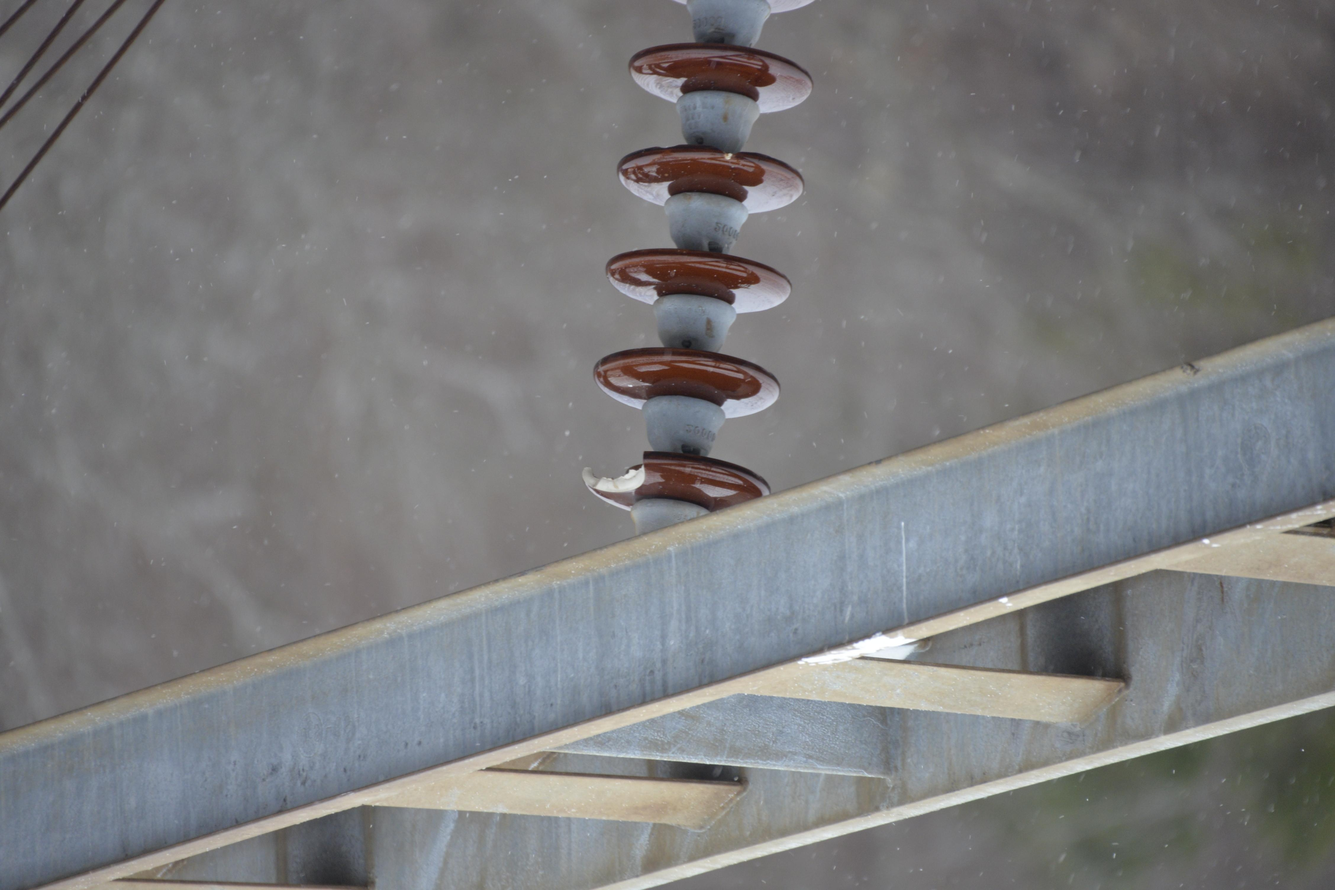damaged: (580, 447, 653, 501), (667, 134, 764, 174)
insulator: (578, 0, 812, 520)
